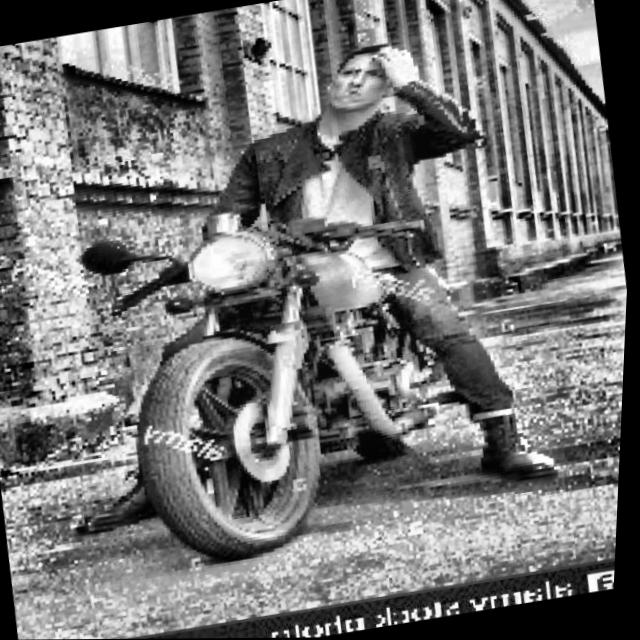motorcycle: (52, 147, 555, 585)
